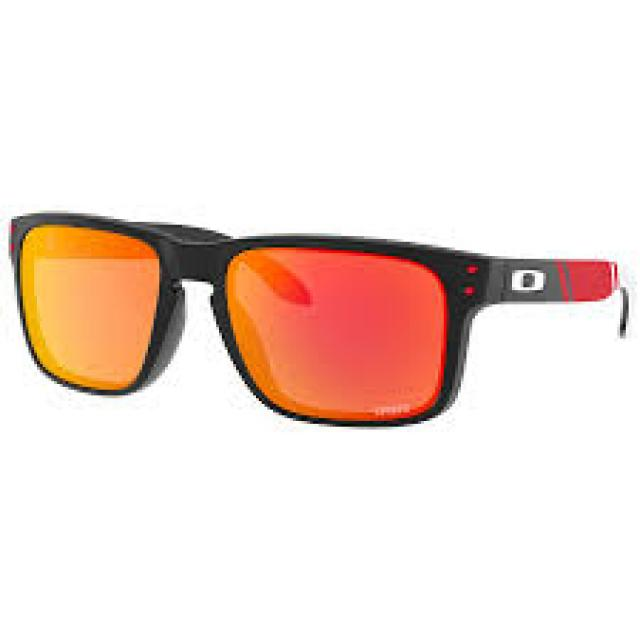suspicious-objects: (8, 206, 500, 431)
